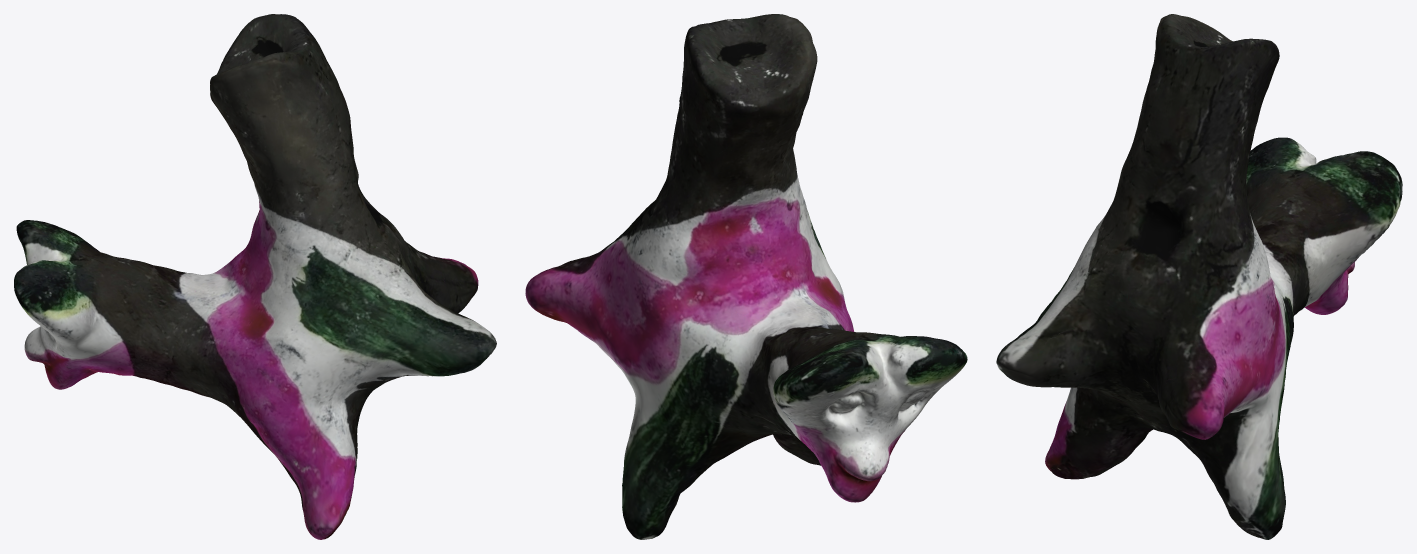
3 renders of one model, left to right at view 1: azimuth 30°, elevation 25°; view 2: azimuth 150°, elevation 25°; view 3: azimuth 270°, elevation 25°, orthographic. The views are drawn at different scales.
Bounding box in the file's own units: 0.5259 × 0.5481 × 0.4201.
1 material, 1 textured.
